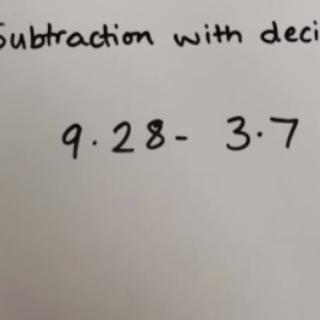.: (254, 127, 265, 140), (88, 137, 99, 149)
2: (111, 121, 136, 155)
3: (225, 116, 253, 151)
7: (271, 114, 299, 148)
8: (146, 119, 165, 150)
9: (63, 122, 82, 161)
